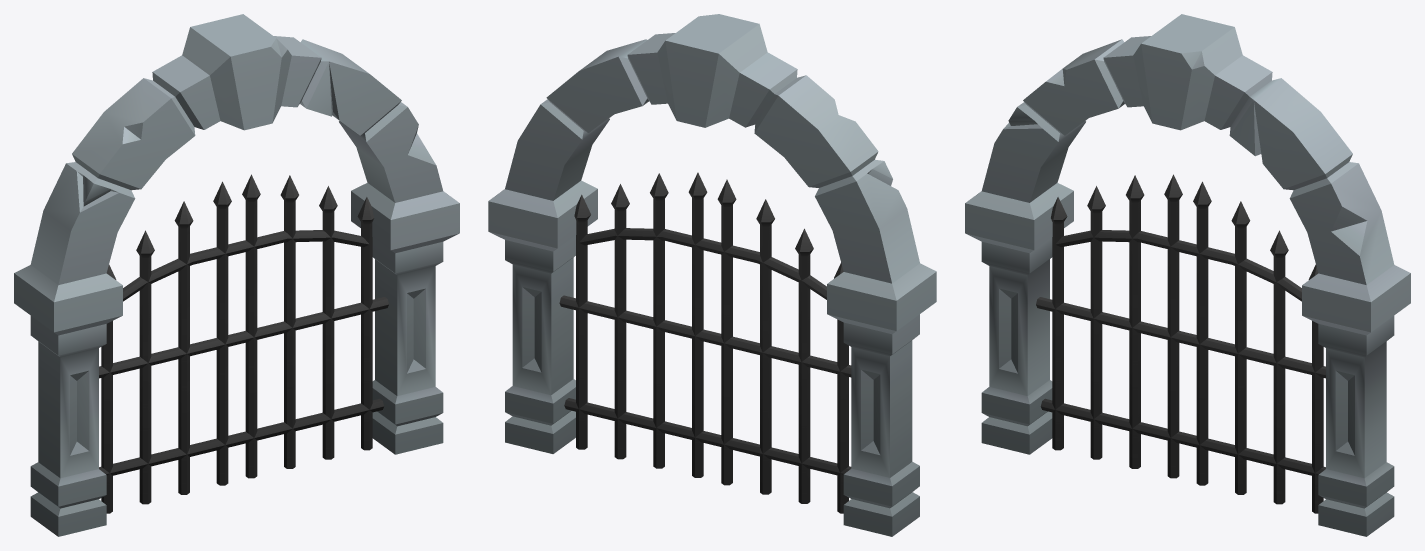
File: kay-portao-cemiterio.gltf
3 views of the same model, side by side, from view 1: azimuth 30°, elevation 25°; view 2: azimuth 150°, elevation 25°; view 3: azimuth 330°, elevation 25° (orthographic).
Parts seen in each view (by area): view 1: arch_gate; view 2: arch_gate; view 3: arch_gate.
Part boxes in pixels (x1,y1,x2,y2): arch_gate: (14,14,459,536); arch_gate: (488,14,936,536); arch_gate: (965,14,1410,536).
Size of the model in its own units: 2.11 by 2.21 by 0.385.
Materials: 1 (1 with a texture image).
